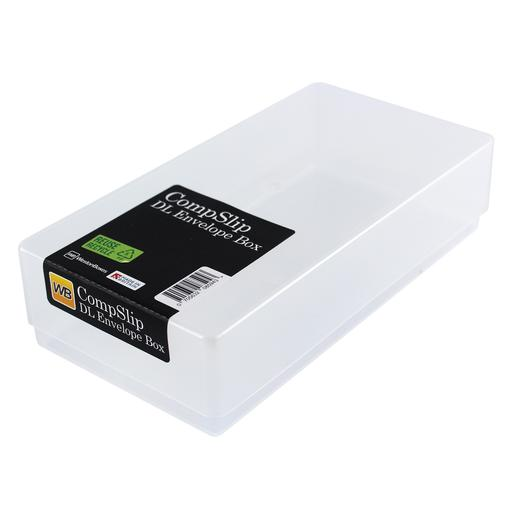PlasticBox: (16, 78, 499, 438)
